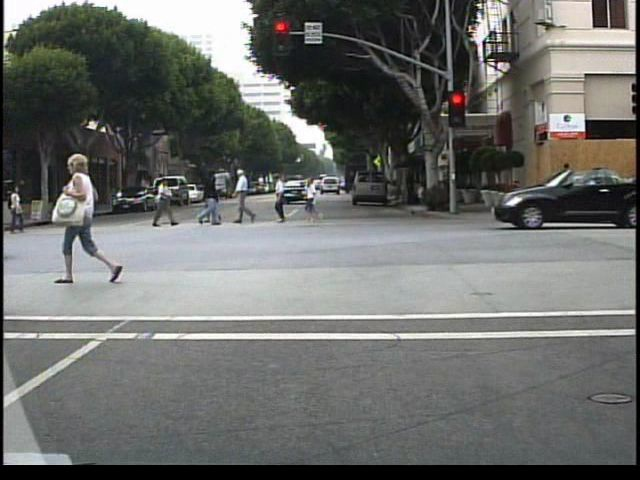person: (60, 149, 117, 287), (196, 166, 226, 230), (232, 166, 262, 227), (149, 172, 174, 229), (5, 181, 29, 236), (272, 172, 296, 226), (553, 156, 575, 213), (16, 193, 42, 239), (213, 173, 214, 227)
